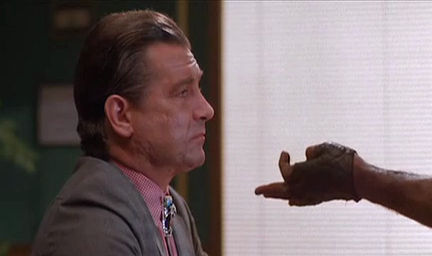cu: (1, 1, 432, 256)
face: (148, 50, 215, 169)
person: (28, 9, 215, 256)
